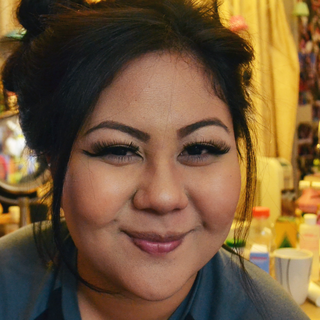eye: (94, 140, 151, 169), (175, 138, 227, 166)
